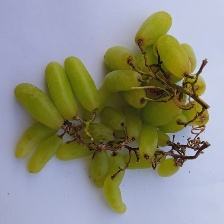grapes: (23, 59, 175, 194)
